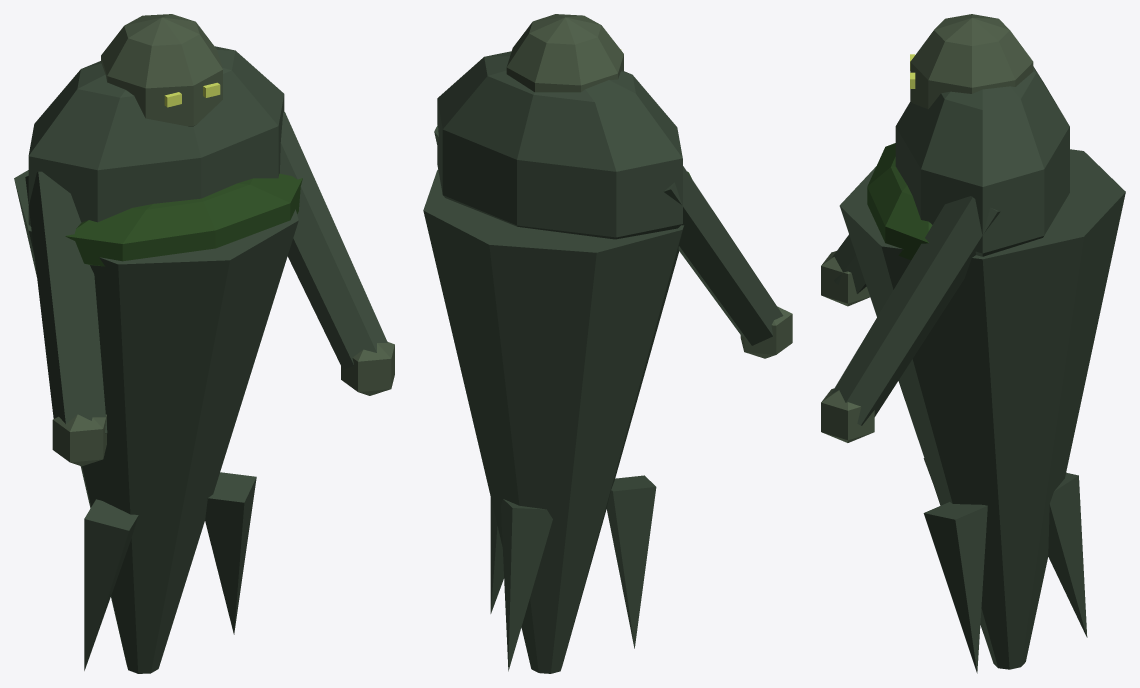
The model's file is moorgeist.glb.
3 renders of one model, left to right at view 1: azimuth 30°, elevation 25°; view 2: azimuth 150°, elevation 25°; view 3: azimuth 270°, elevation 25°, orthographic. The views are drawn at different scales.
Size of the model in its own units: 0.6948 by 1.32 by 0.5655.
Materials: 1 (1 with a texture image).
